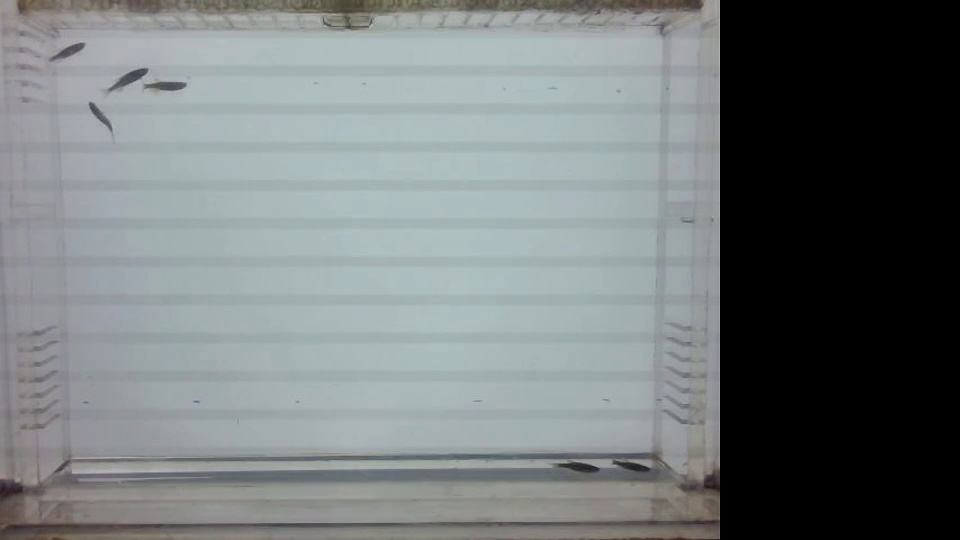fish: (41, 34, 88, 70), (82, 100, 118, 145), (100, 66, 149, 96), (548, 458, 601, 481), (140, 78, 192, 101), (604, 452, 652, 476)
